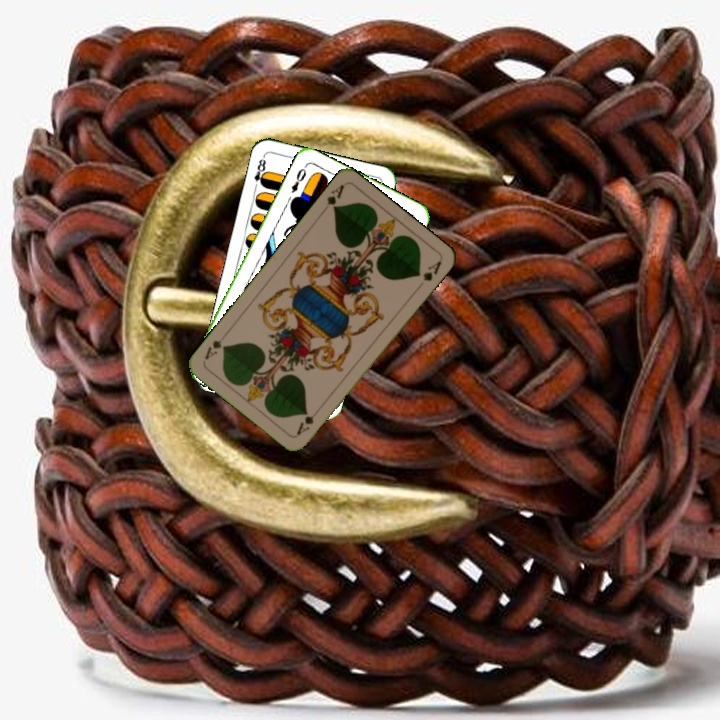E8: (250, 152, 270, 192)
EO: (287, 162, 309, 195)
GA: (292, 403, 323, 438), (318, 181, 347, 216)
